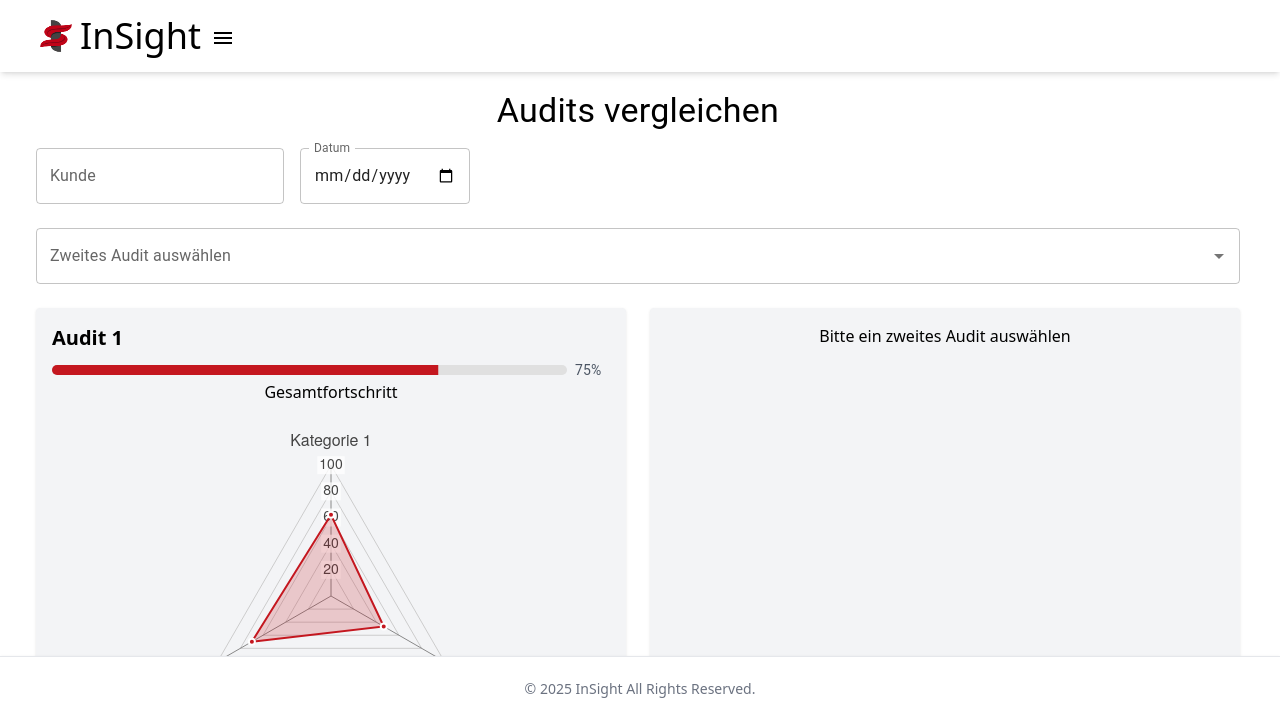
CompareAudits Page › renders the AuditComparisonCard for the second audit
The width and height of the screenshot is (1280, 720).
Click the button named "Open". click: (1219,256)
box: [1205,242,1233,270]
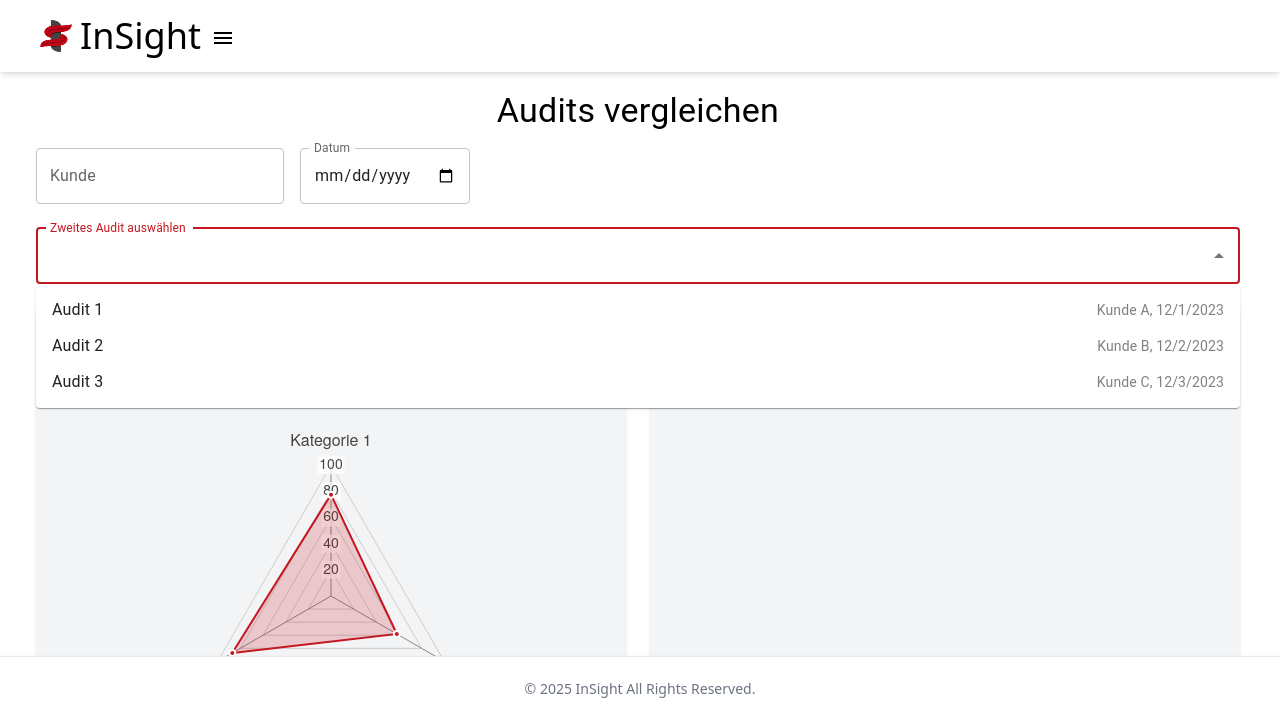
Click the text "Audit 2". click: (78,346)
box: [52,336,103,355]
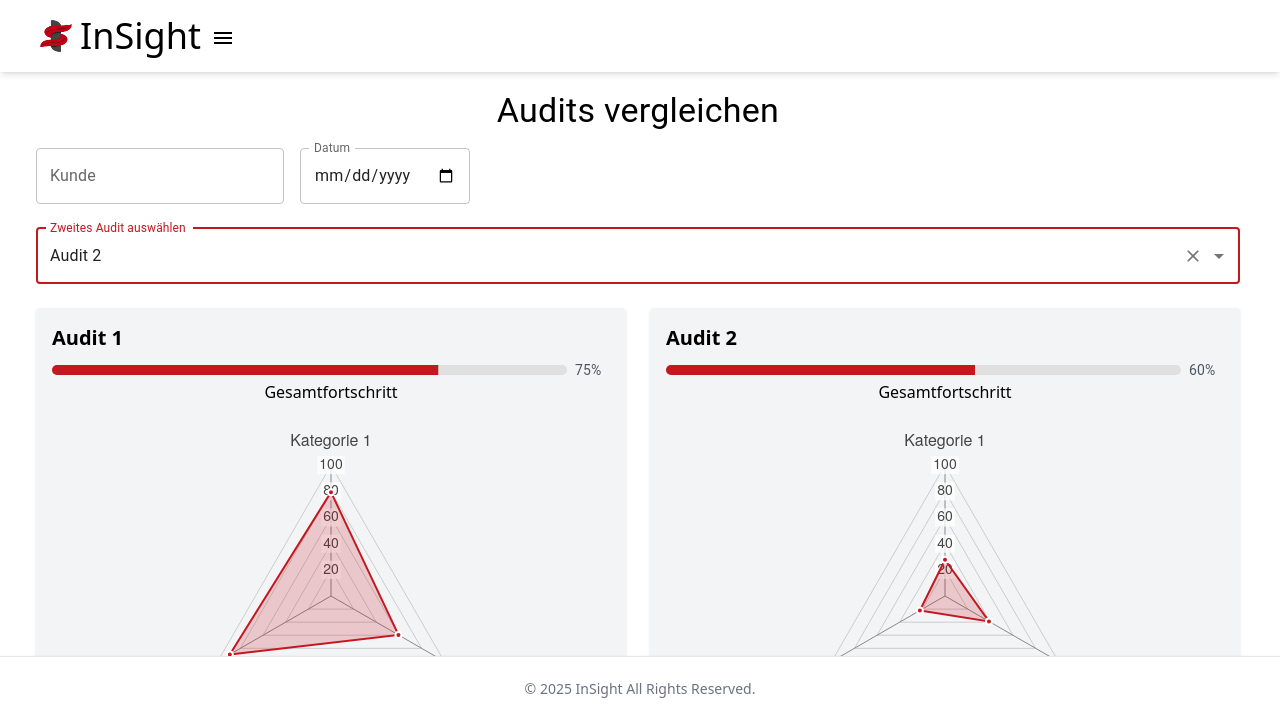
Result: the heading "Audit 2" is shown at [666,324,737,351]
Result: the progress indicator next to "60%" is shown at [666,365,1181,375]
